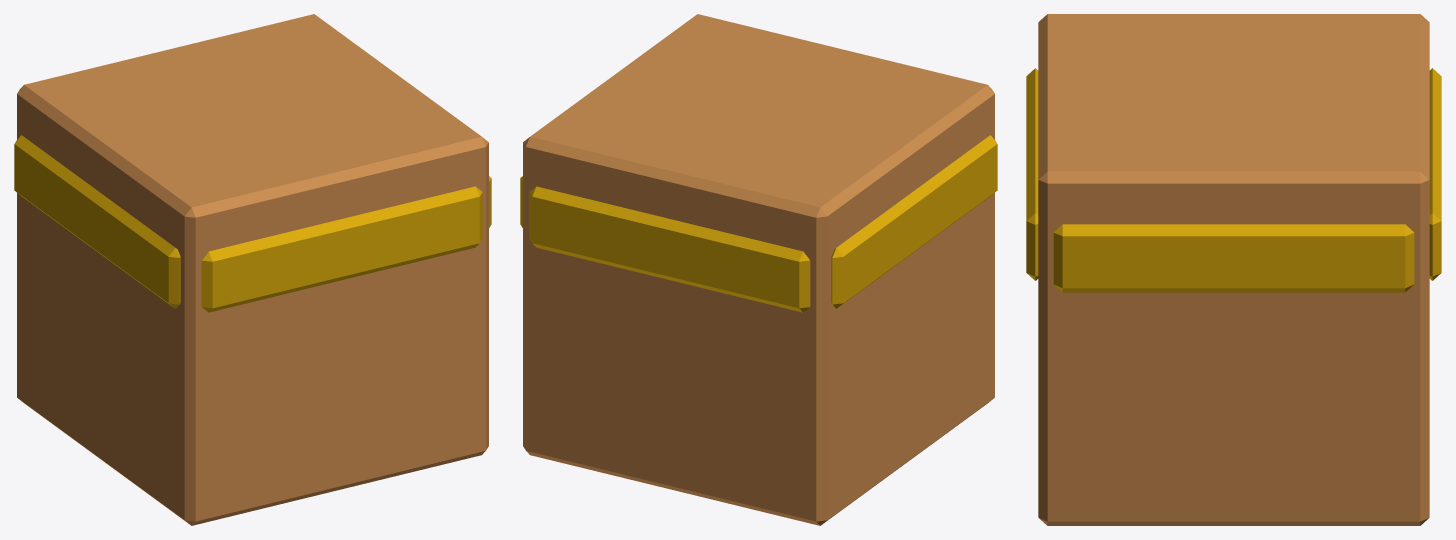
File: sliding_crate.glb
The picture shows the model from 3 angles, left to right: view 1: azimuth 30°, elevation 25°; view 2: azimuth 150°, elevation 25°; view 3: azimuth 270°, elevation 25°; orthographic projection. The views are drawn at different scales.
Visible parts, largest first — view 1: sliding_crate; view 2: sliding_crate; view 3: sliding_crate.
Boxes of the visible parts, x1=… form: sliding_crate: x1=14, y1=14, x2=491, y2=525; sliding_crate: x1=520, y1=14, x2=997, y2=525; sliding_crate: x1=1026, y1=14, x2=1441, y2=525.
Size of the model in its own units: 0.276 by 0.26 by 0.276.
